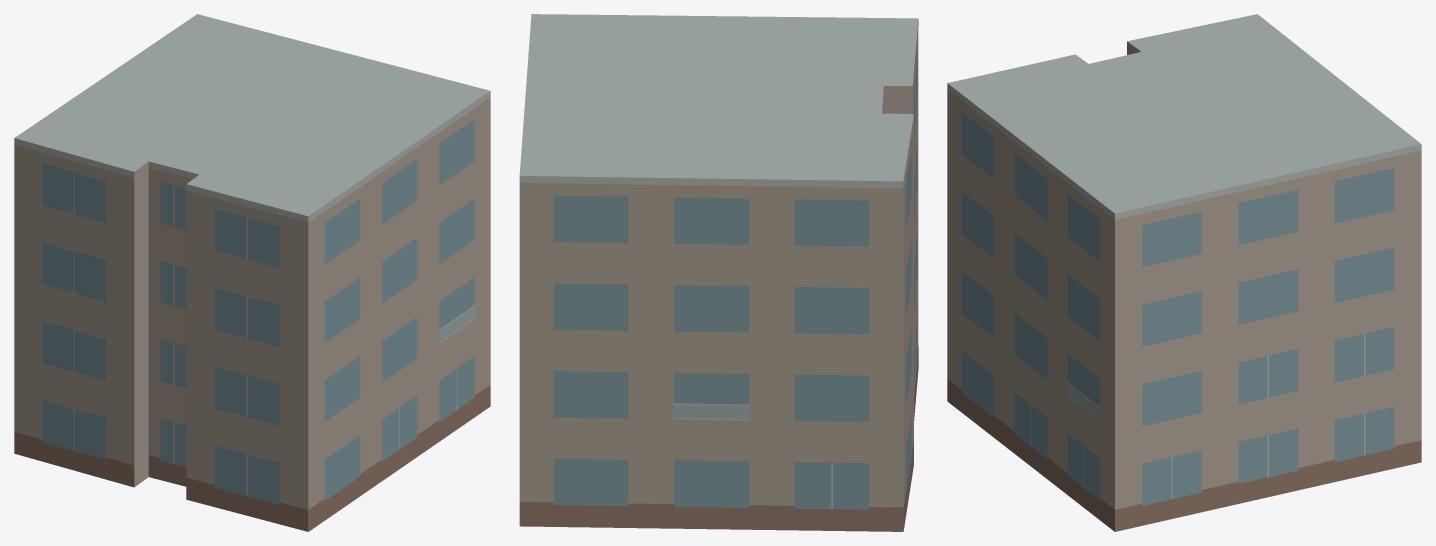
File: survey-upis-32613323.glb
3 views of the same model, side by side, from view 1: azimuth 30°, elevation 25°; view 2: azimuth 150°, elevation 25°; view 3: azimuth 270°, elevation 25° (orthographic). The views are drawn at different scales.
Parts seen in each view (by area): view 1: survey-upis-32613323.tmp; view 2: survey-upis-32613323.tmp; view 3: survey-upis-32613323.tmp.
Part boxes in pixels (x1=…): survey-upis-32613323.tmp: x1=14, y1=14, x2=490, y2=531; survey-upis-32613323.tmp: x1=519, y1=14, x2=918, y2=531; survey-upis-32613323.tmp: x1=947, y1=14, x2=1421, y2=531.
Bounding box in the file's own units: 16.42 × 12.2 × 16.48.
